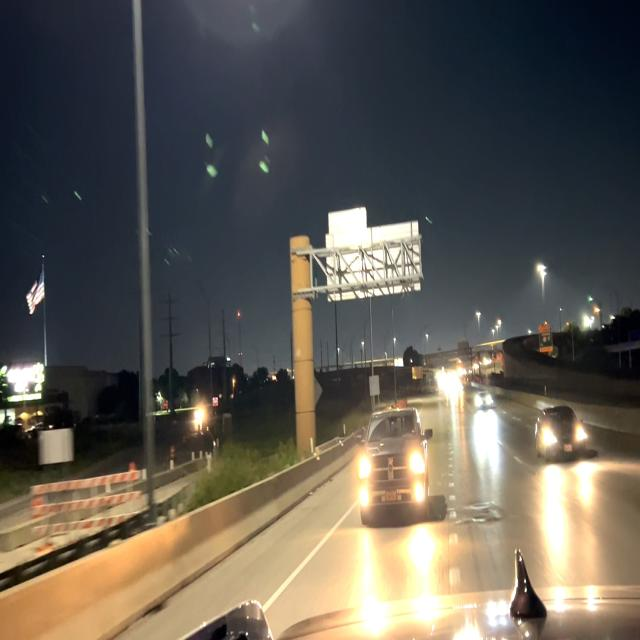back-of-sign: (326, 221, 421, 304), (329, 206, 369, 232)
